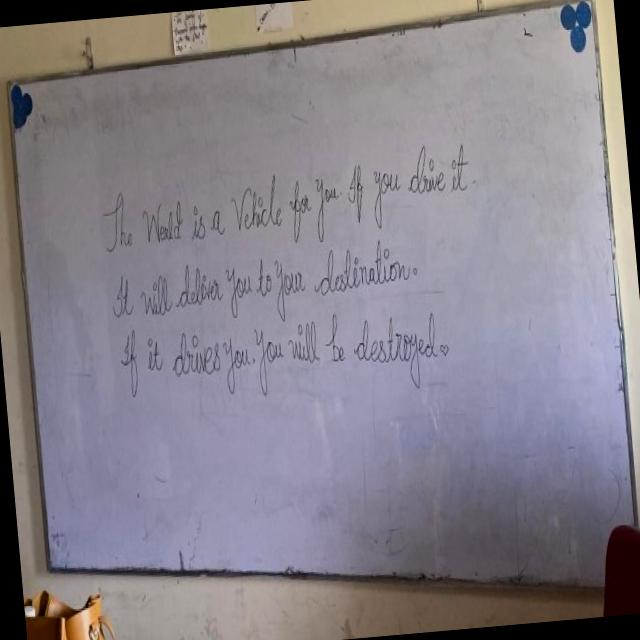White-board: (11, 0, 640, 581)
